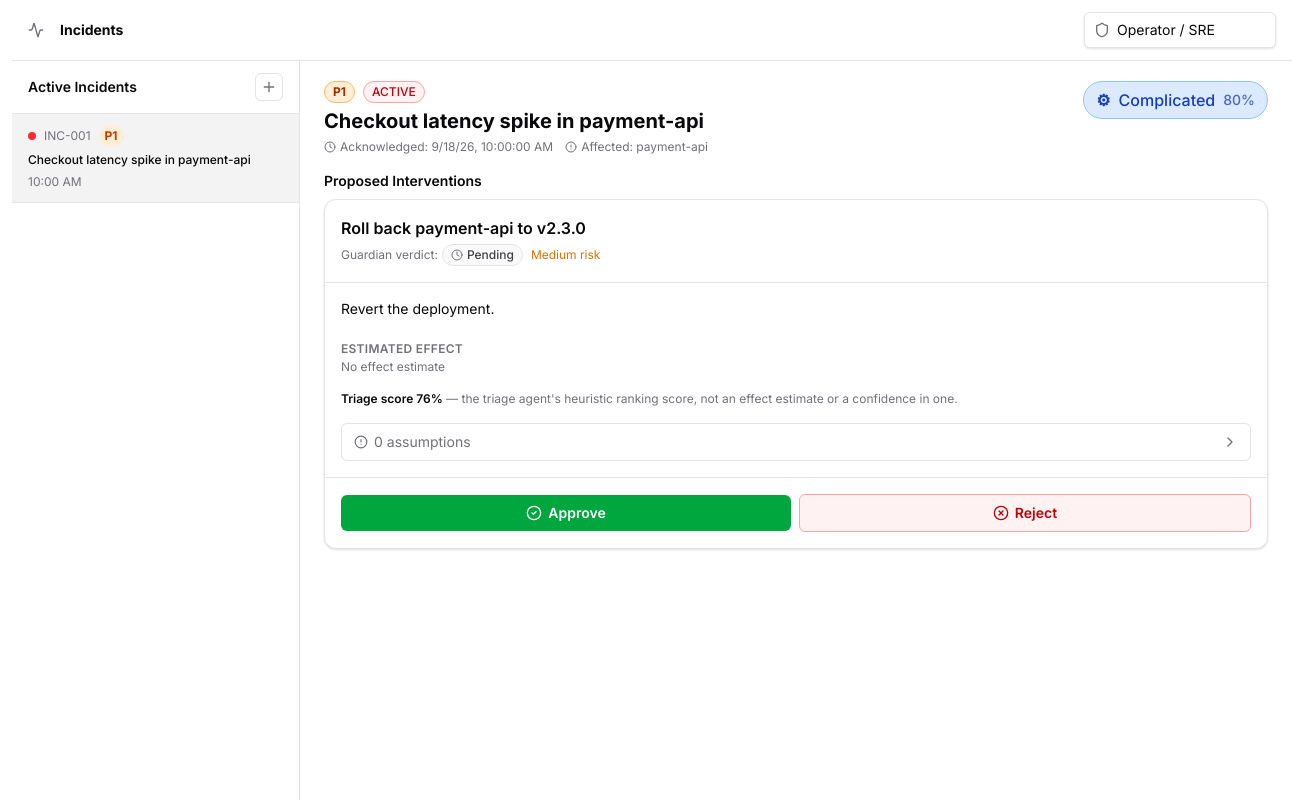
Test: IncidentsPage — intervention decisions › shows the backend's earlier decision when the attempt conflicts with it
Click the button with test id "reject-button" at (1025, 513), box [799,494,1251,532]
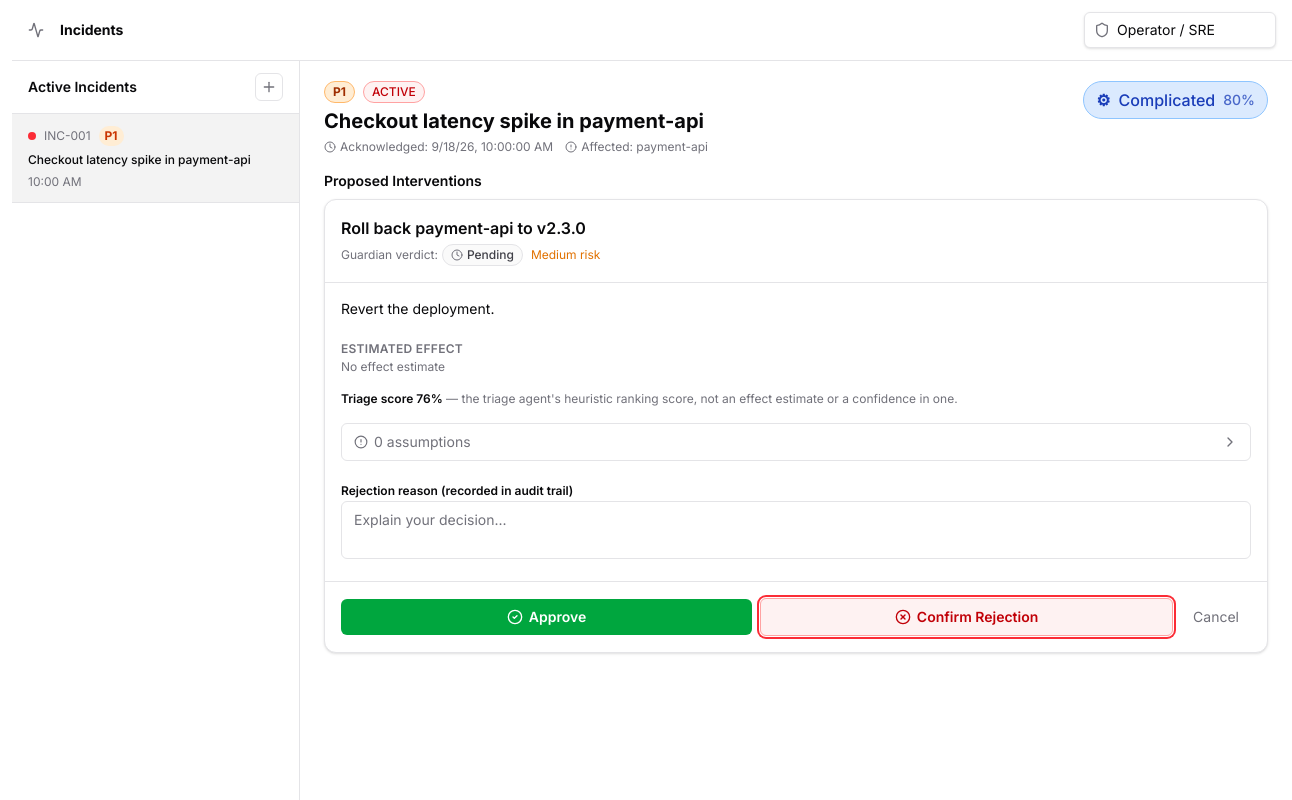
Type "Too risky." into the text box labelled "Rejection reason (recorded in audit trail)" at (796, 530), box [341,501,1251,559]
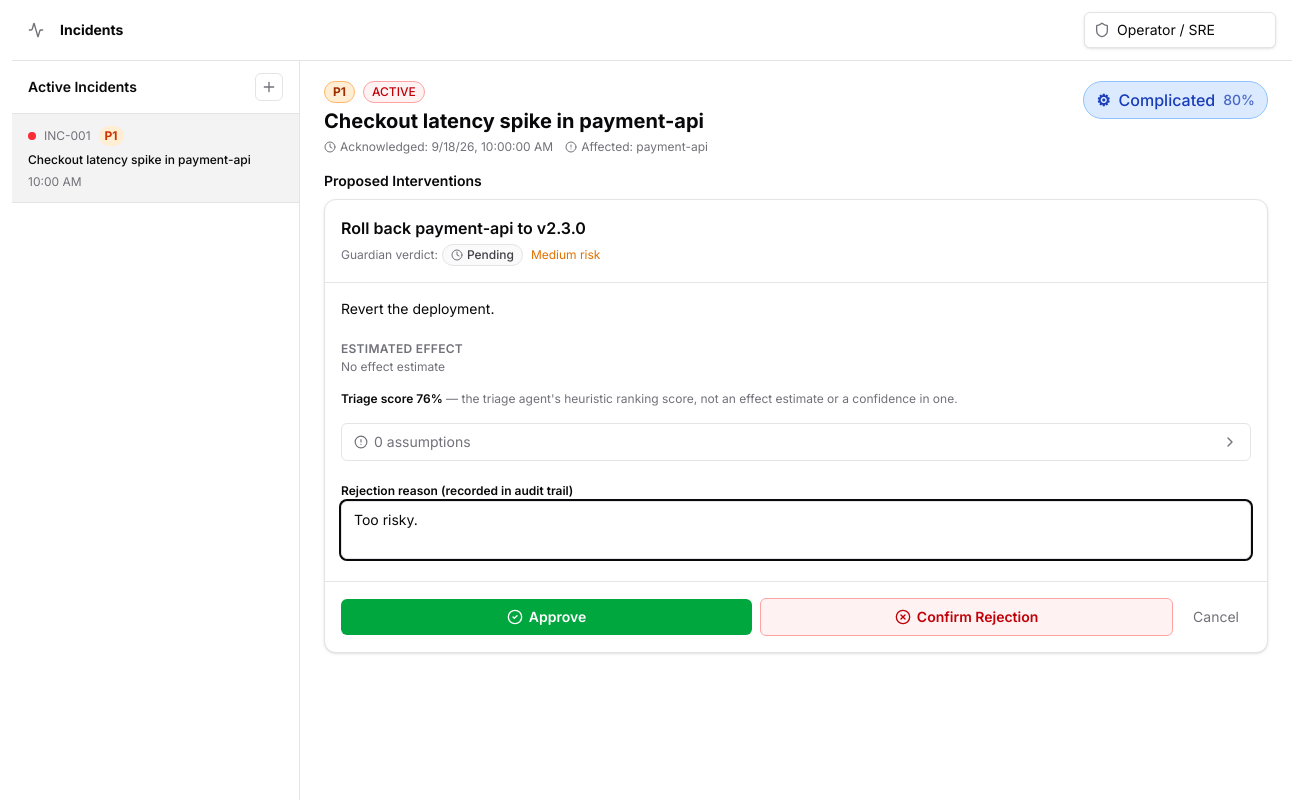
Click the button with test id "reject-button" at (966, 617), box [760,598,1173,636]
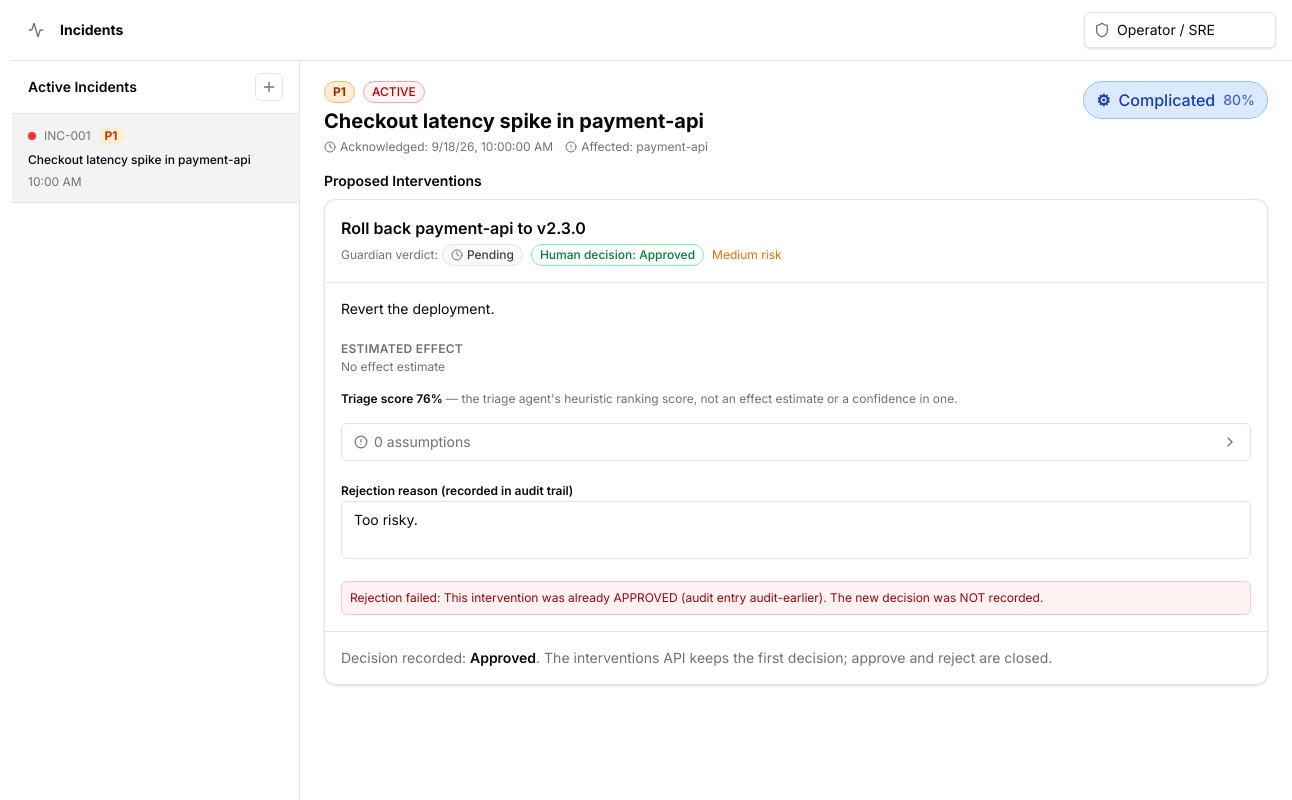
Expected: the message with test id "intervention-action-error" shows "already APPROVED", [350,590,1043,605]
Expected: the message with test id "intervention-action-error" shows "NOT recorded", [350,590,1043,605]
